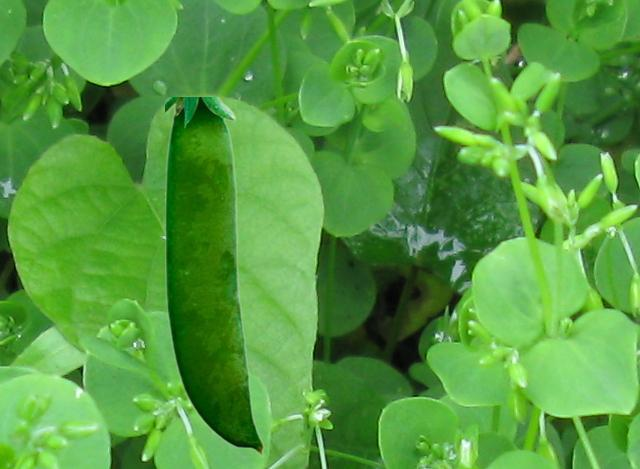pea: (165, 97, 263, 456)
